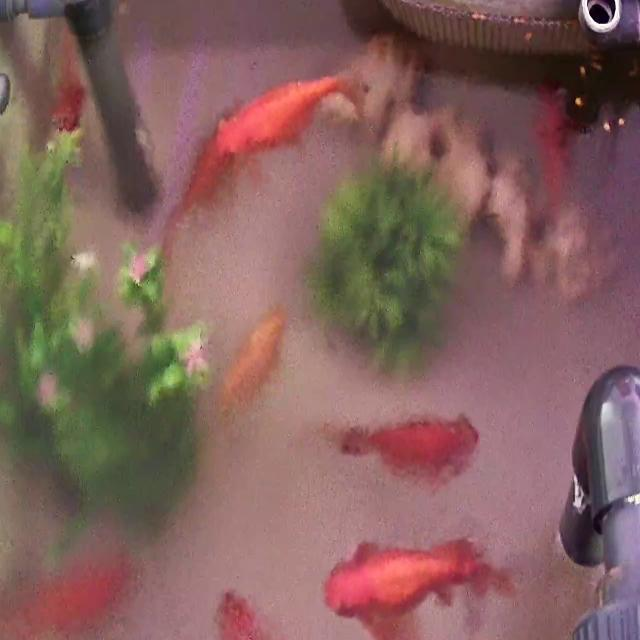fish: (329, 535, 505, 640), (0, 547, 141, 640), (208, 72, 336, 160), (166, 120, 242, 252), (338, 410, 477, 480), (217, 305, 286, 417), (532, 85, 576, 224), (215, 586, 298, 640), (48, 44, 88, 140)
